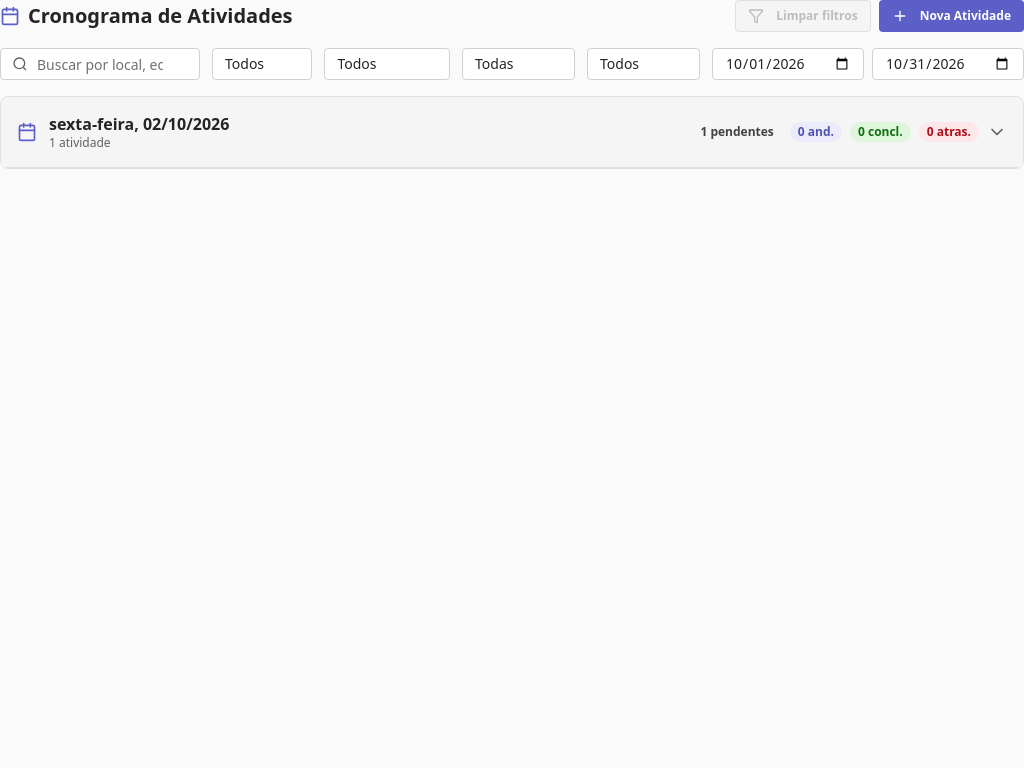
Test: CronogramaView — validação do formulário › exige o horário de fim quando há horário de início
Step 1. Click the 3rd button → (139, 124), box [1,97,1023,168]
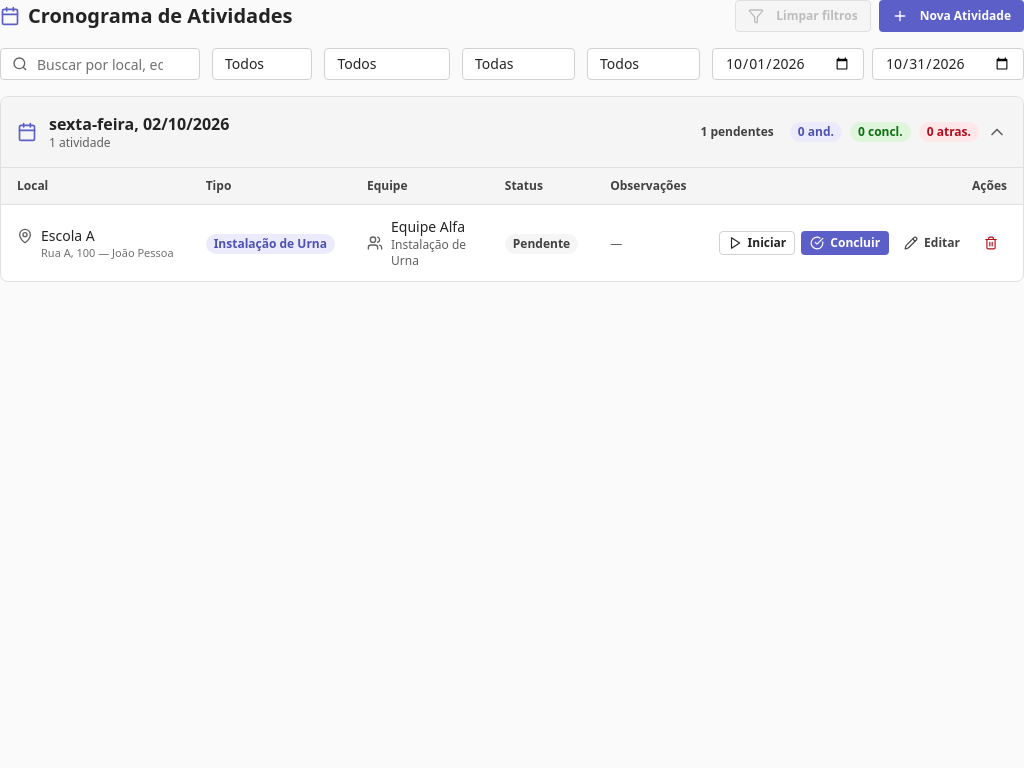
Step 2. Click the button "Editar" → (932, 243), box [895,231,969,255]
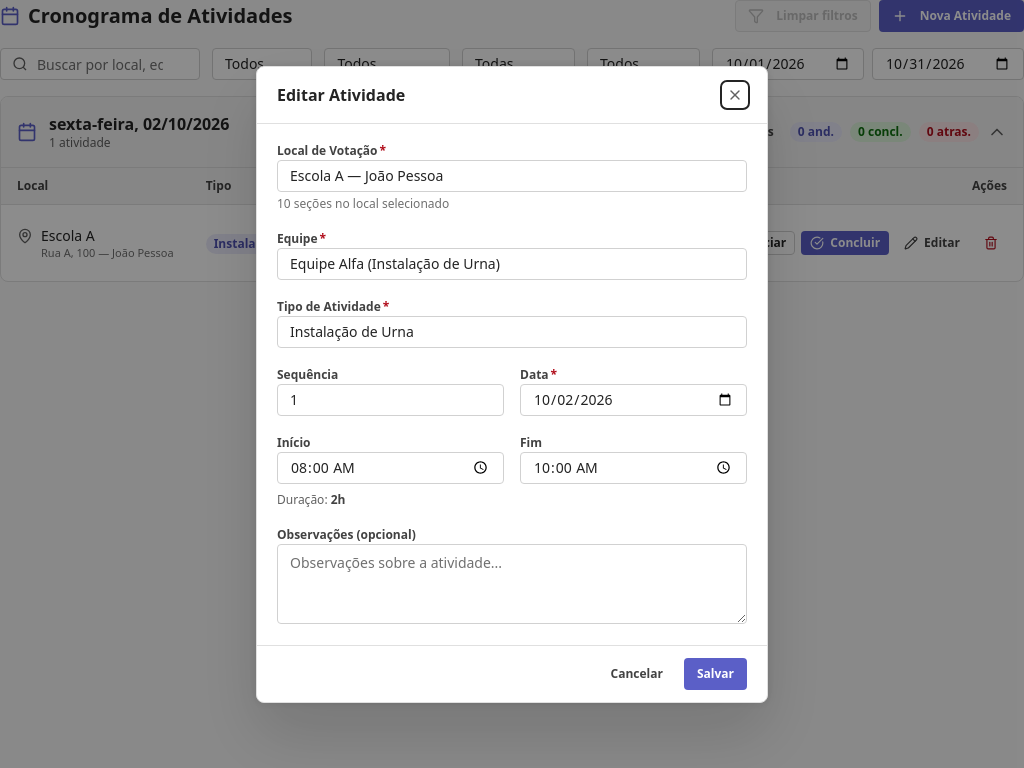
Step 3. Clear the time field labelled "Fim" → (634, 468), box [520,452,747,484]
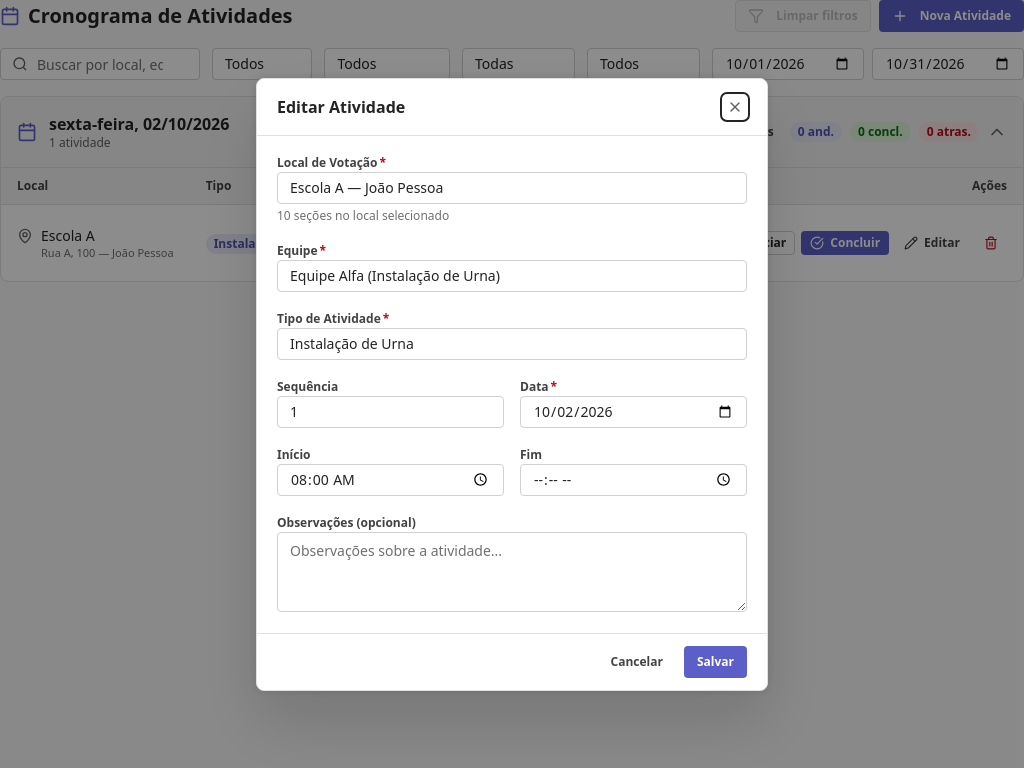
Step 4. Click the button "Salvar" → (716, 662), box [684,646,747,678]
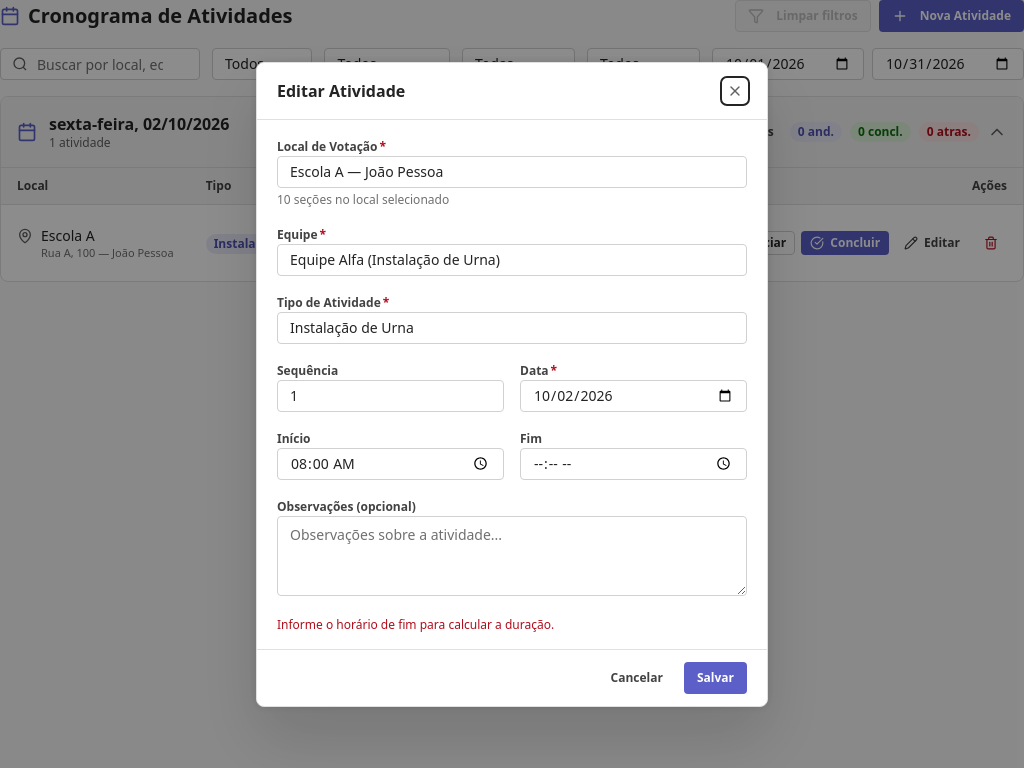
Expected: the text "Informe o horário de fim para calcular a duração." is shown, [277,616,554,632]
